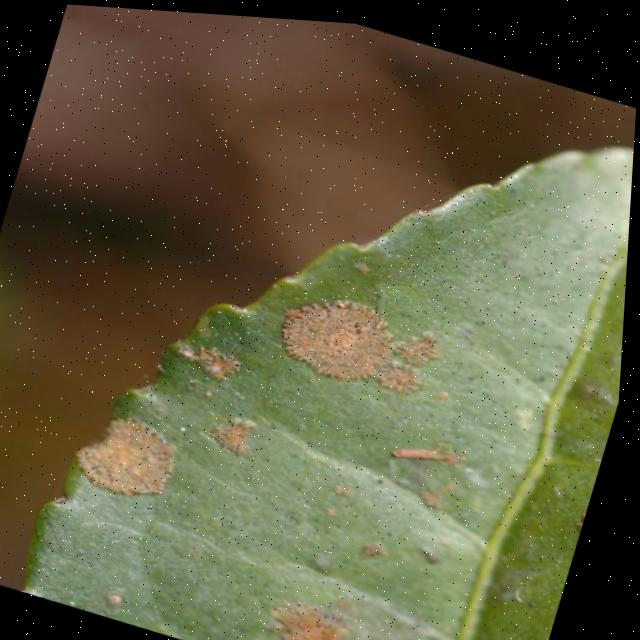Tea algae leaf spot: (252, 252, 479, 430), (55, 375, 246, 519), (234, 548, 396, 640)
